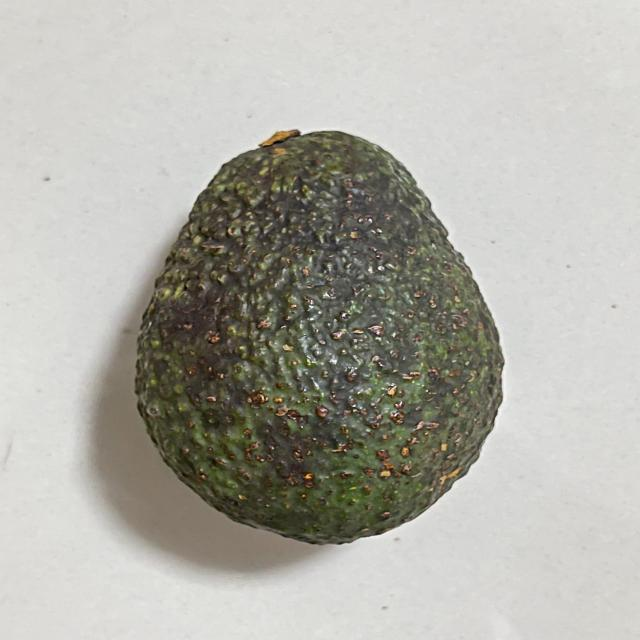avocado: (119, 108, 523, 559)
